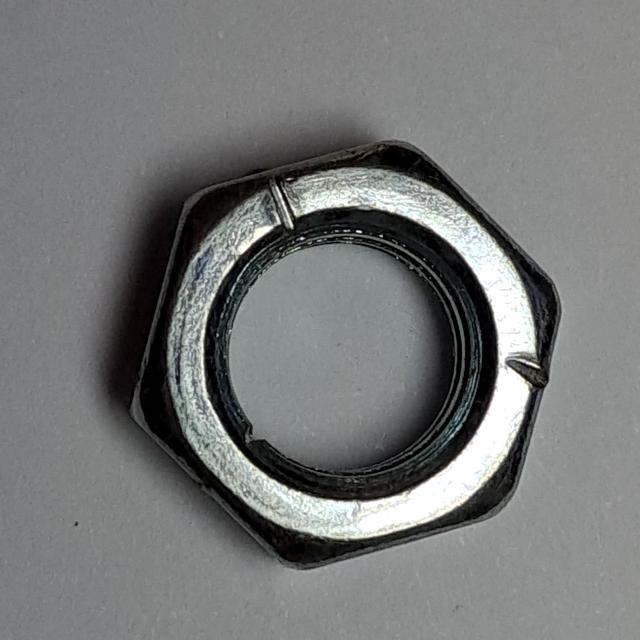Scratches: (117, 124, 573, 582)
